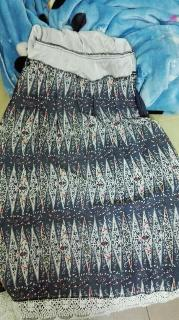vest: (0, 24, 179, 320)
